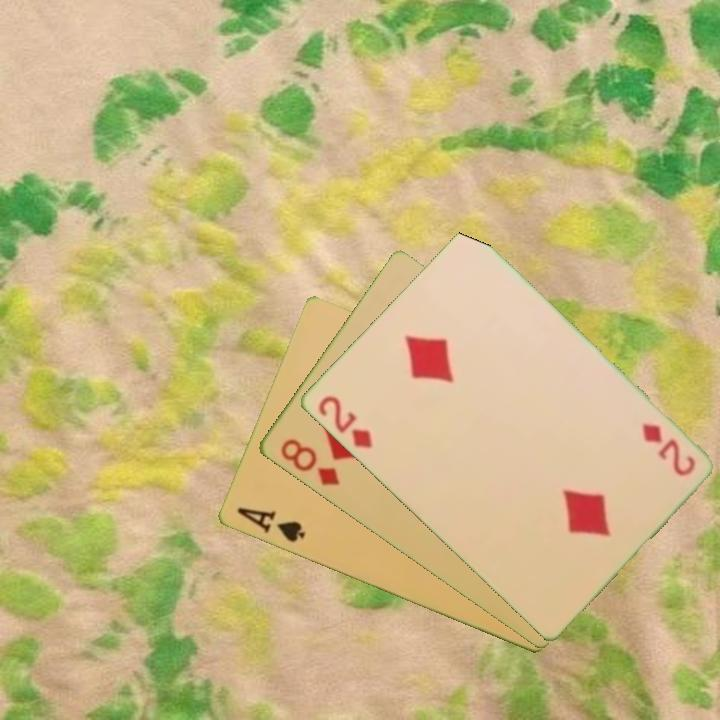2d: (314, 392, 375, 452), (638, 420, 698, 479)
8d: (276, 435, 342, 489)
As: (233, 503, 308, 546)
